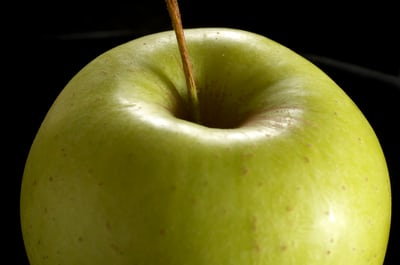apple: (17, 20, 395, 265)
